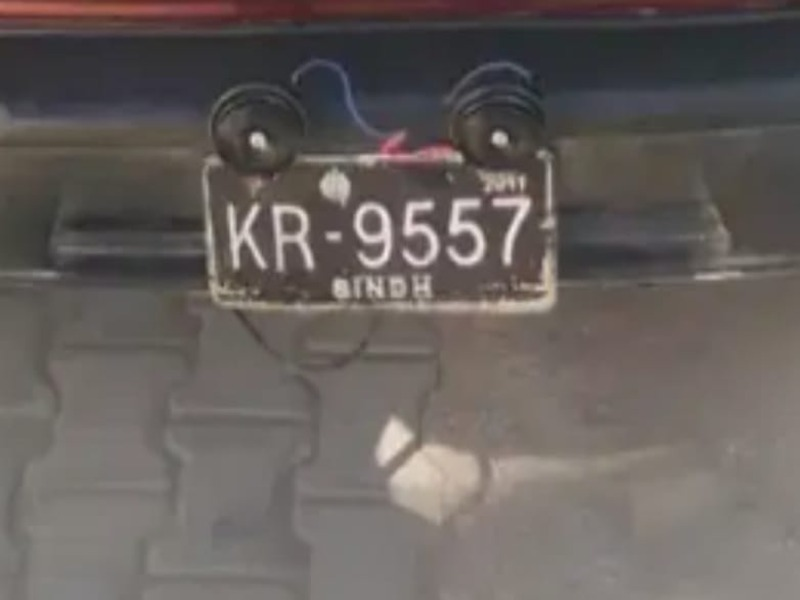License Plate: (196, 146, 569, 326)
